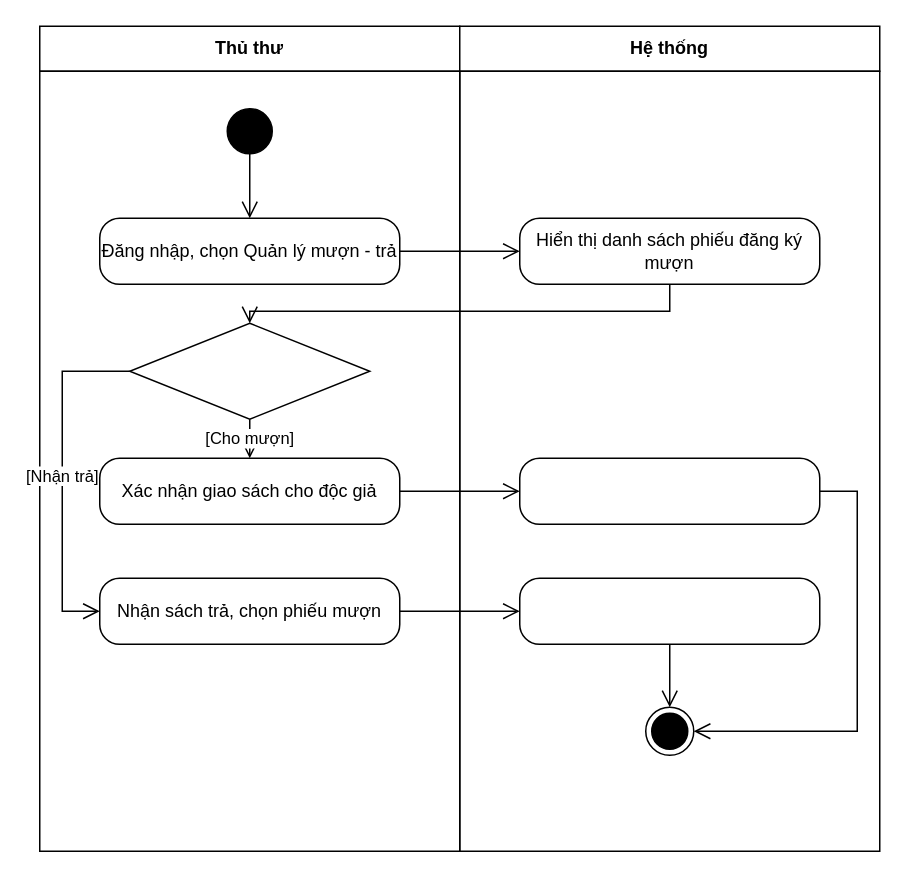
Image size: 906x878. Some labels were removed from this diagram. The shapes that lost their labels are listed below. From the top down, each one's box as (x1, y1, x2, y2) in pixels, then its label:
(128, 322, 370, 419): Nghiệp vụ?
(518, 457, 820, 524): Cập nhật phiếu: Đang mượn, ngày hẹn trả
(518, 577, 820, 644): Ghi ngày trả, tăng số lượng còn
